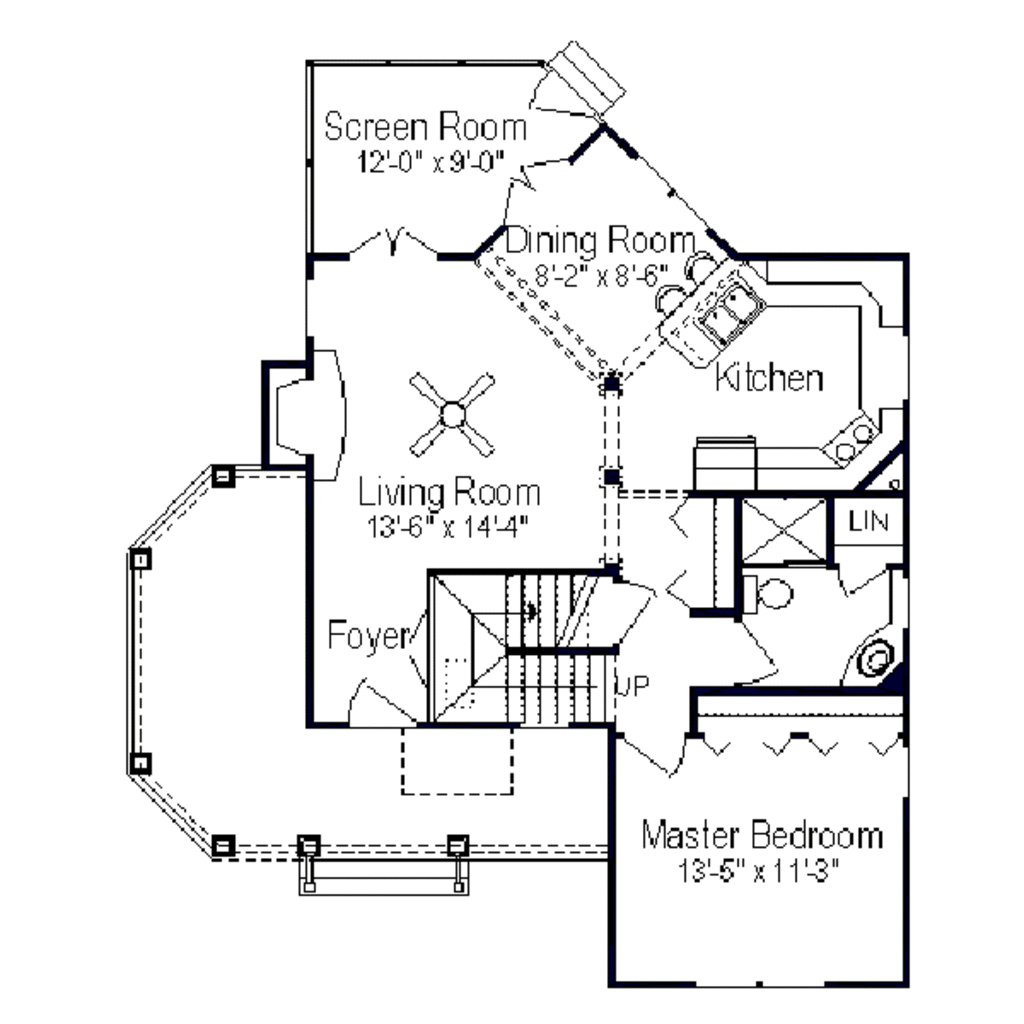door: (338, 676, 429, 735), (495, 155, 571, 214), (613, 726, 686, 787), (727, 612, 785, 683), (343, 225, 435, 267)
kitchen_bar: (643, 247, 762, 372)
large_sink: (735, 572, 798, 618)
small_sink: (845, 624, 911, 689)
stairs: (426, 570, 623, 732)
windows: (685, 973, 827, 997)
